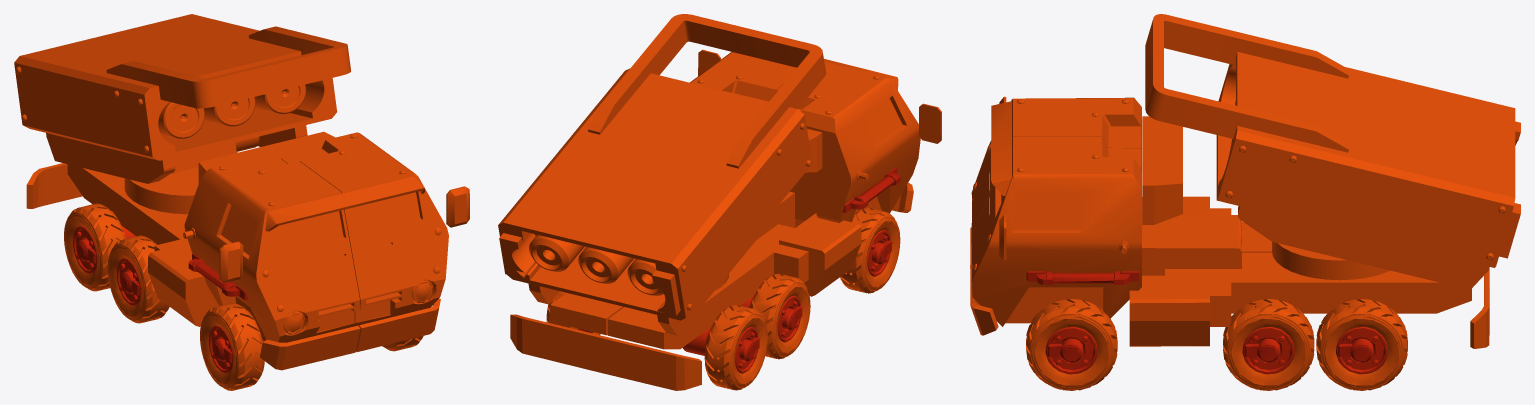
File: WbRocketsRigged.fbx
3 renders of one model, left to right at view 1: azimuth 30°, elevation 25°; view 2: azimuth 150°, elevation 25°; view 3: azimuth 270°, elevation 25°, orthographic. The views are drawn at different scales.
Parts seen in each view (by area): view 1: Body, BarrelRocketLauncher, WheelSteeringGroupA.003, Wheel.050, Wheel.049, TurretMain.004; view 2: BarrelRocketLauncher, Body, Wheel.050, Wheel.049, WheelSteeringGroupA.003; view 3: BarrelRocketLauncher, Body, Wheel.048, WheelSteeringGroupA.002, Wheel.042, TurretMain.004.
Part boxes in pixels (bbox=[...]): Body: bbox=[26, 131, 469, 370]; BarrelRocketLauncher: bbox=[14, 14, 350, 183]; WheelSteeringGroupA.003: bbox=[200, 303, 264, 390]; Wheel.050: bbox=[64, 203, 135, 291]; Wheel.049: bbox=[107, 235, 169, 323]; TurretMain.004: bbox=[124, 152, 237, 214]; BarrelRocketLauncher: bbox=[498, 14, 826, 335]; Body: bbox=[510, 49, 941, 390]; Wheel.050: bbox=[682, 305, 767, 390]; Wheel.049: bbox=[740, 273, 810, 359]; WheelSteeringGroupA.003: bbox=[840, 208, 900, 293]; BarrelRocketLauncher: bbox=[1145, 14, 1520, 289]; Body: bbox=[970, 96, 1489, 348]; Wheel.048: bbox=[1316, 299, 1407, 390]; WheelSteeringGroupA.002: bbox=[1026, 299, 1117, 390]; Wheel.042: bbox=[1223, 299, 1314, 390]; TurretMain.004: bbox=[1272, 242, 1389, 280].
Size of the model in its own units: 0.5509 by 0.5786 by 0.987.
